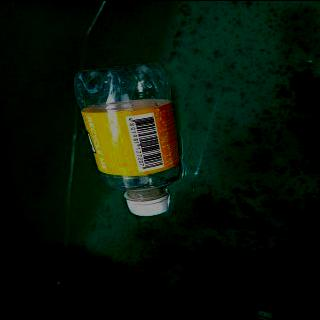bottle: (69, 58, 185, 216)
